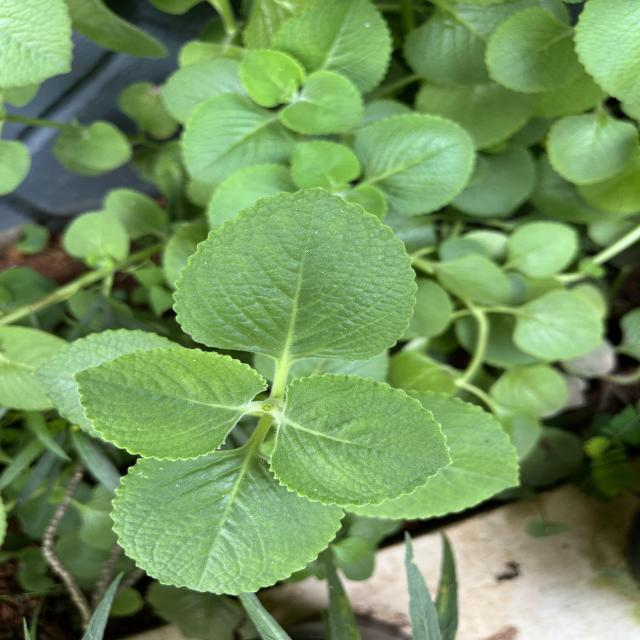Plectranthus barbatus: (171, 186, 420, 364), (108, 454, 349, 597), (264, 370, 456, 508), (71, 344, 270, 462), (354, 112, 478, 218), (269, 0, 395, 96), (180, 90, 291, 184), (482, 5, 588, 94), (544, 112, 638, 186), (509, 288, 604, 361), (276, 70, 365, 136)
